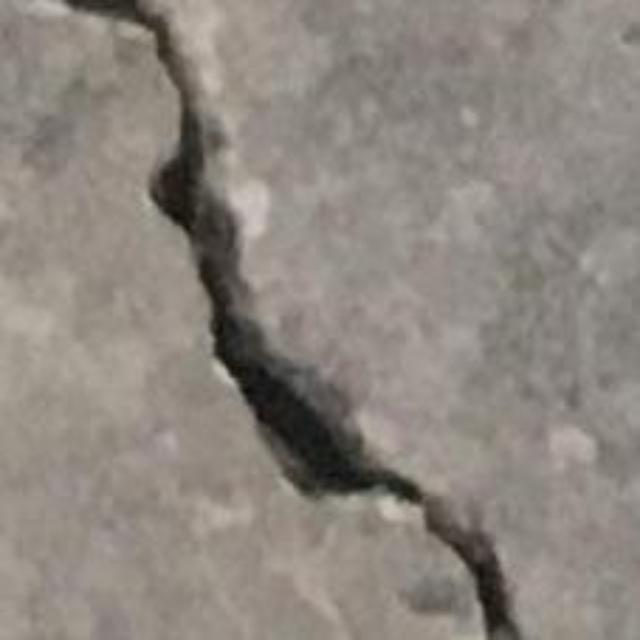crack: (68, 0, 521, 639)
